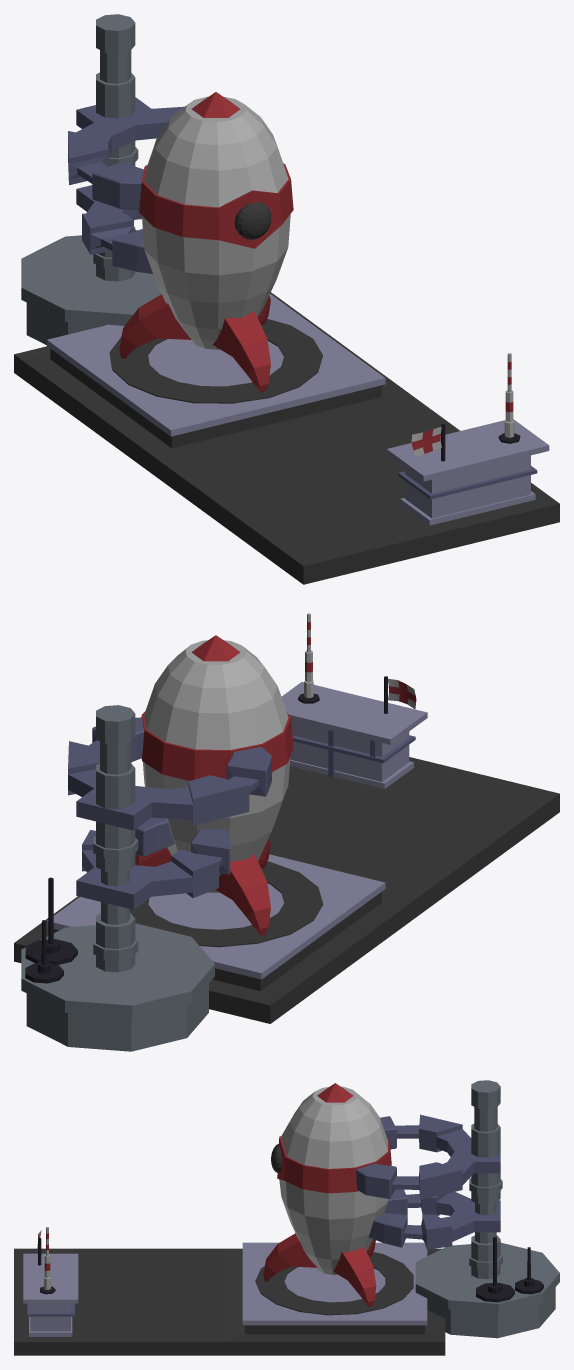
The model's file is Rocket Scene.fbx.
The picture shows the model from 3 angles, top to bottom: view 1: azimuth 30°, elevation 25°; view 2: azimuth 150°, elevation 25°; view 3: azimuth 270°, elevation 25°; orthographic projection. The views are drawn at different scales.
Visible parts, largest first — view 1: ground, rocket, mount, control, det6, mount1, mount2, flag, transmitter mast; view 2: ground, mount, rocket, control, mount1, mount2, det6, det4, det5, flag, transmitter mast; view 3: ground, rocket, mount, mount1, mount2, control, det6, det4, det5, transmitter mast.
Part boxes in pixels (x1=…): ground: x1=14, y1=292, x2=559, y2=584; rocket: x1=119, y1=92, x2=293, y2=392; mount: x1=21, y1=14, x2=161, y2=345; control: x1=386, y1=419, x2=549, y2=525; det6: x1=109, y1=318, x2=322, y2=403; mount1: x1=68, y1=97, x2=193, y2=209; mount2: x1=76, y1=185, x2=152, y2=273; flag: x1=411, y1=424, x2=445, y2=461; transmitter mast: x1=498, y1=353, x2=520, y2=443; ground: x1=14, y1=757, x2=559, y2=1023; mount: x1=21, y1=705, x2=214, y2=1051; rocket: x1=135, y1=635, x2=293, y2=935; control: x1=281, y1=682, x2=427, y2=788; mount1: x1=68, y1=717, x2=271, y2=830; mount2: x1=76, y1=817, x2=230, y2=909; det6: x1=130, y1=861, x2=323, y2=947; det4: x1=25, y1=877, x2=77, y2=964; det5: x1=25, y1=920, x2=63, y2=983; flag: x1=384, y1=676, x2=416, y2=713; transmitter mast: x1=298, y1=613, x2=319, y2=703; ground: x1=14, y1=1242, x2=445, y2=1355; rocket: x1=263, y1=1083, x2=391, y2=1306; mount: x1=415, y1=1080, x2=559, y2=1338; mount1: x1=356, y1=1114, x2=500, y2=1199; mount2: x1=368, y1=1189, x2=500, y2=1249; control: x1=23, y1=1253, x2=78, y2=1336; det6: x1=255, y1=1252, x2=413, y2=1315; det4: x1=476, y1=1237, x2=514, y2=1302; det5: x1=515, y1=1247, x2=543, y2=1294; transmitter mast: x1=40, y1=1227, x2=55, y2=1294.
Bounding box in the file's own units: 1464 × 1657 × 3625.
